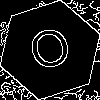O: (25, 25, 78, 80)
